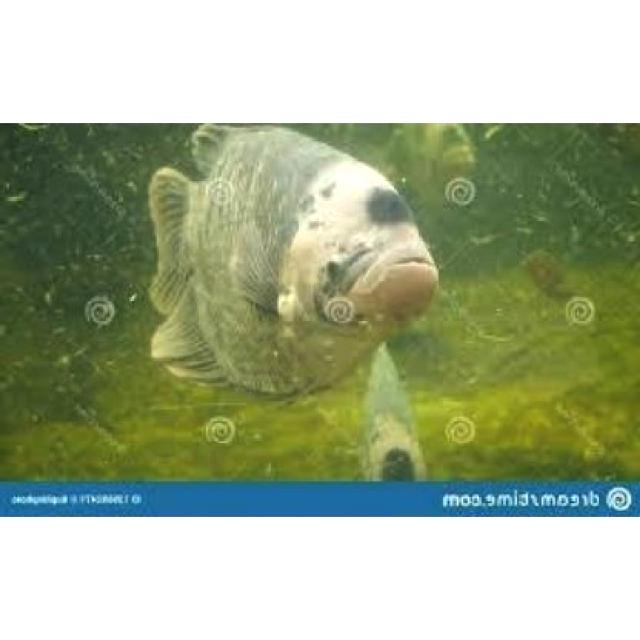gurame: (148, 122, 437, 398)
